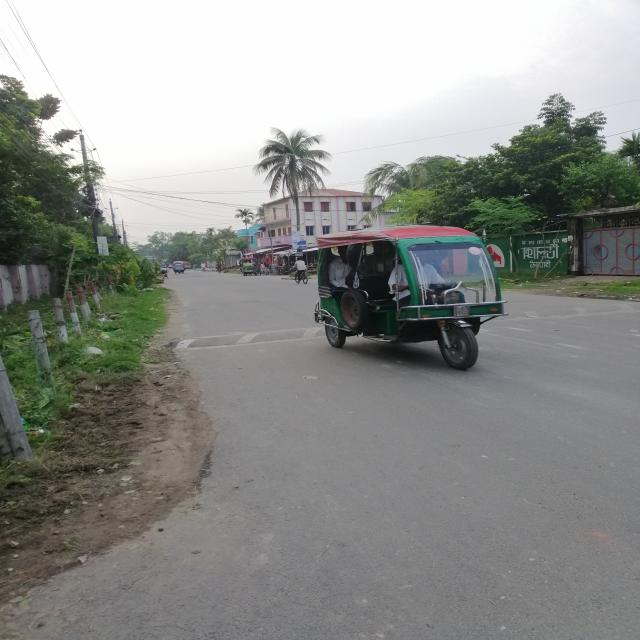Easybike: (290, 205, 539, 402)
